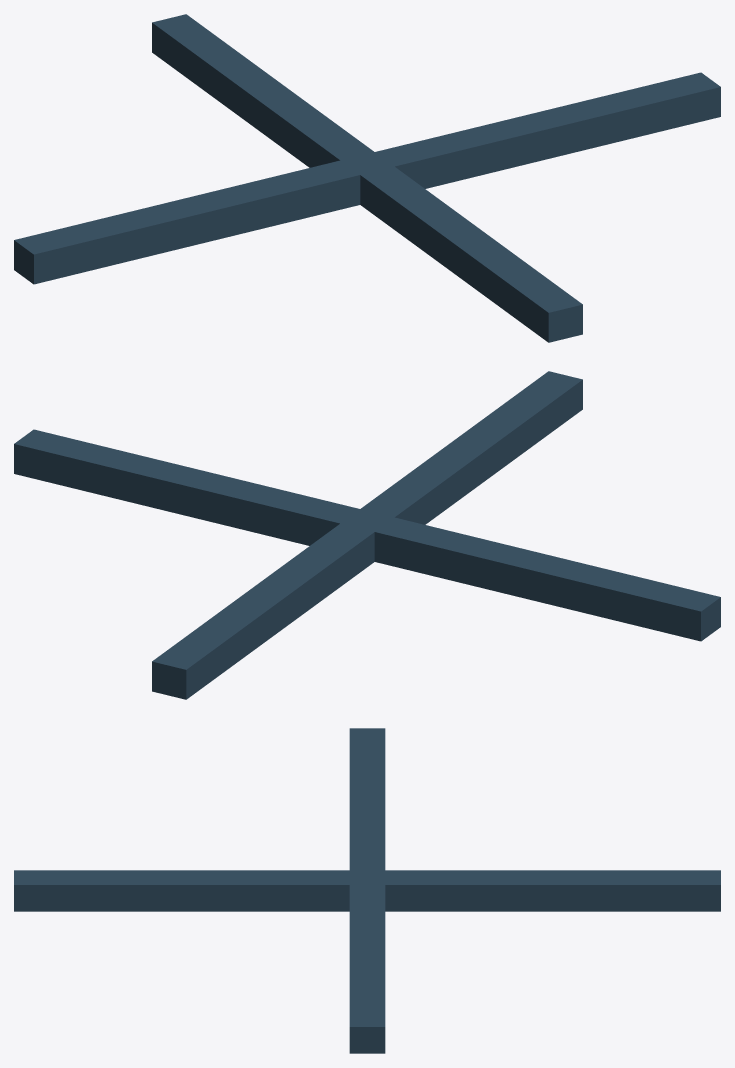
File: hub.glb
3 renders of one model, top to bottom at view 1: azimuth 30°, elevation 25°; view 2: azimuth 150°, elevation 25°; view 3: azimuth 270°, elevation 25°, orthographic. The views are drawn at different scales.
Visible parts, largest first — view 1: register-x, register-z; view 2: register-x, register-z; view 3: register-z, register-x.
Boxes of the visible parts, x1,y1,x2,y2 form: register-x: (14,72,720,284); register-z: (152,14,582,342); register-x: (14,429,720,641); register-z: (152,371,582,699); register-z: (14,870,720,911); register-x: (349,728,385,1053).
Size of what is drawn, in the model's own units: 0.36 by 0.015 by 0.36.
